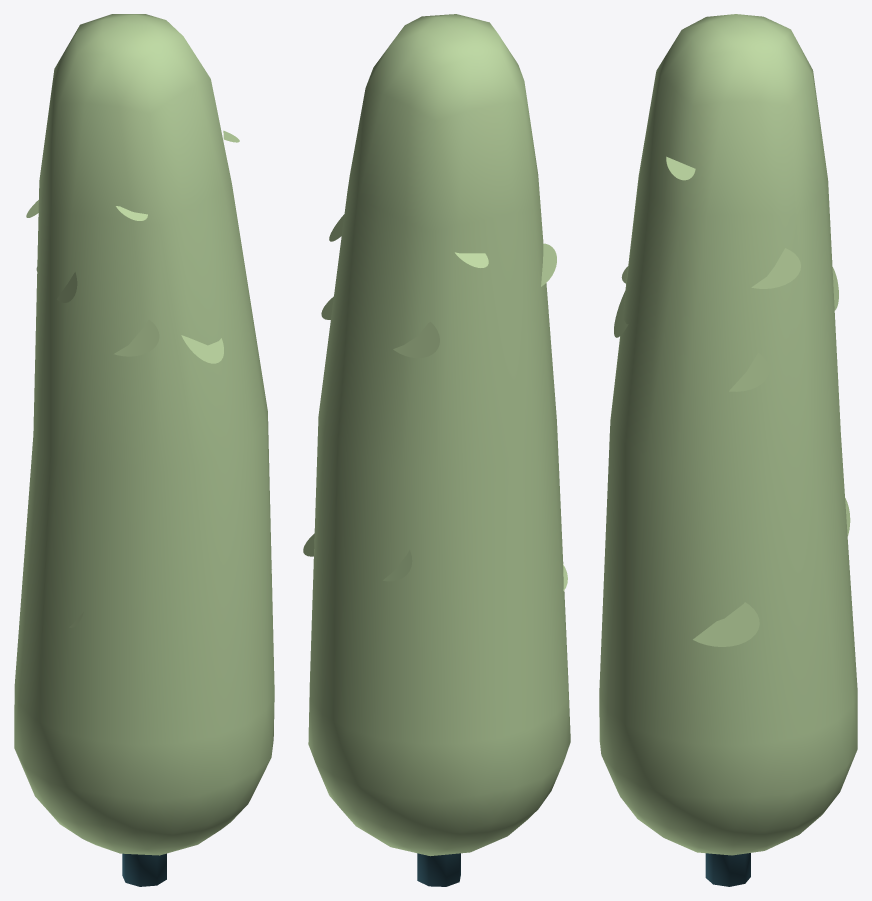
The model's file is Tree4.dae.
The picture shows the model from 3 angles, left to right: view 1: azimuth 30°, elevation 25°; view 2: azimuth 150°, elevation 25°; view 3: azimuth 270°, elevation 25°; orthographic projection.
Visible parts, largest first — view 1: Tree4; view 2: Tree4; view 3: Tree4.
Boxes of the visible parts, x1,y1,x2,y2 form: Tree4: (14, 14, 274, 886); Tree4: (303, 14, 570, 886); Tree4: (599, 14, 857, 886).
Bounding box in the file's own units: 2.37 × 2.28 × 8.25.
Materials: 1 (1 with a texture image).
